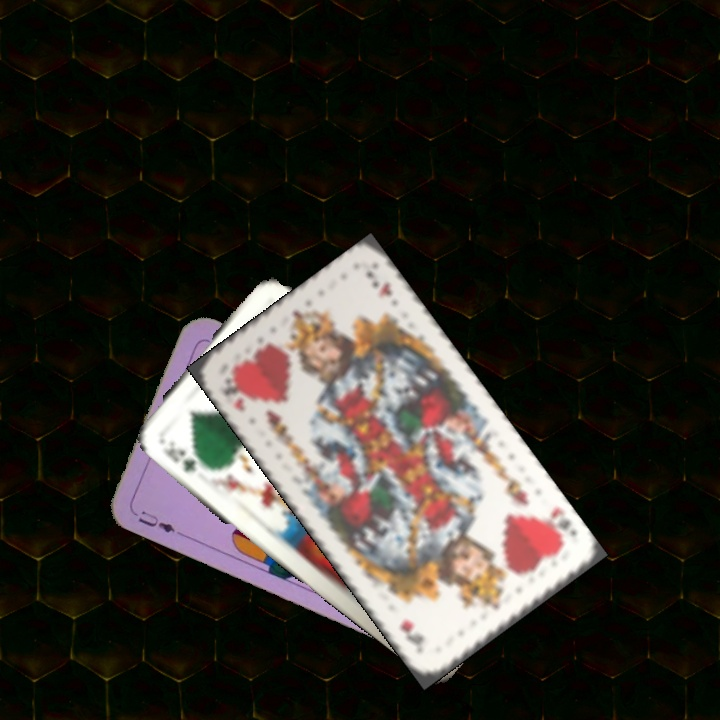EU: (128, 505, 178, 536)
GK: (159, 438, 199, 475)
HK: (545, 503, 579, 550), (214, 375, 249, 414)
